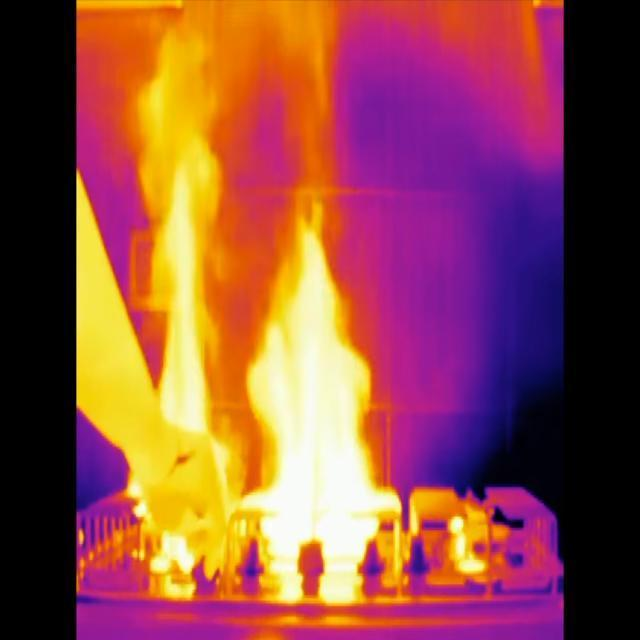fire: (251, 329, 380, 578), (140, 528, 206, 576), (446, 508, 490, 578)
